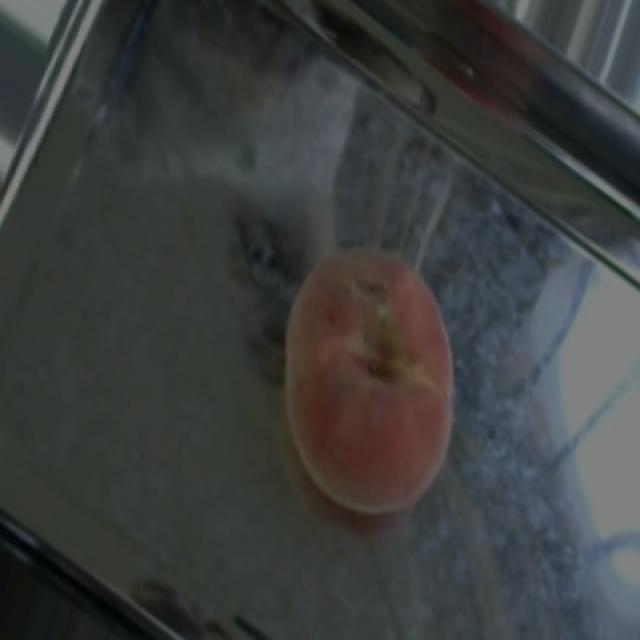Fruit: (235, 214, 482, 540)
